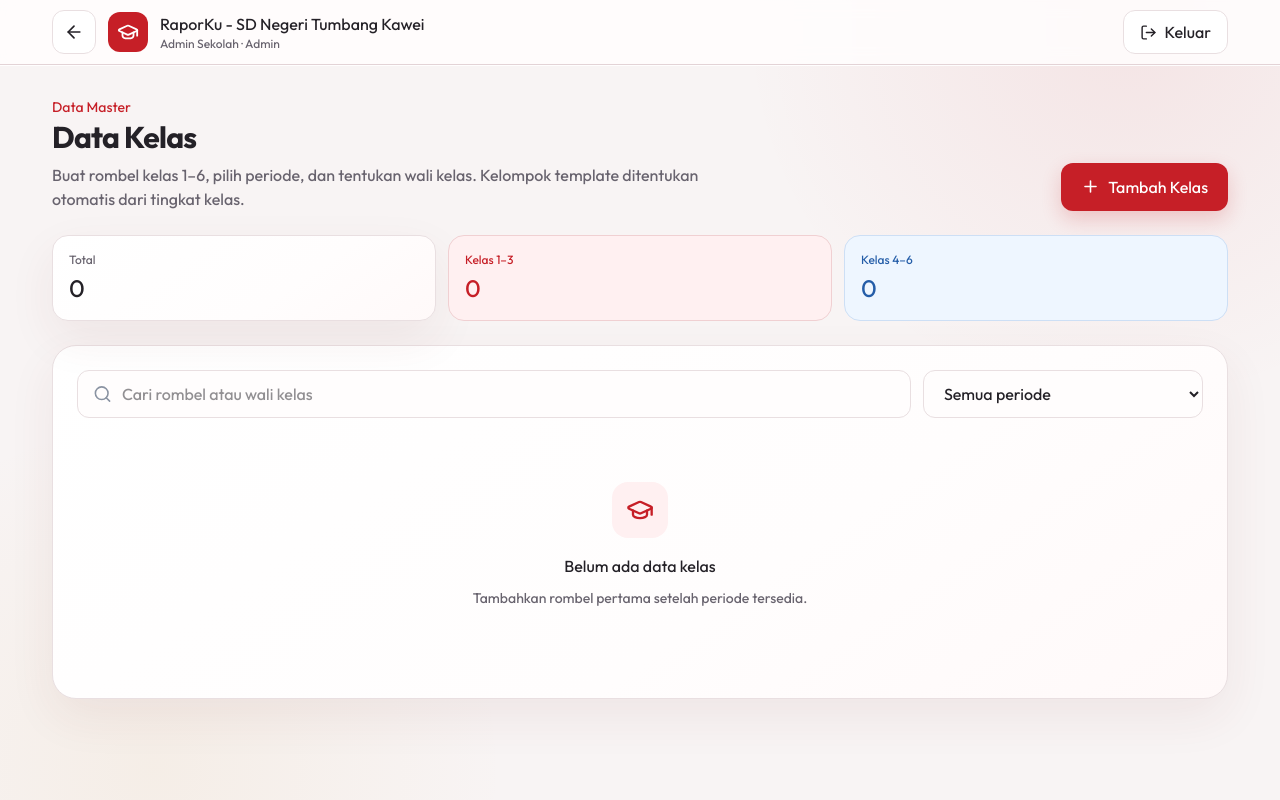
Test: ClassPage › menambahkan kelas dengan template yang ditentukan otomatis
This screenshot has width=1280, height=800.
Click the button "Tambah Kelas" at (1145, 187), box [1061,163,1228,211]
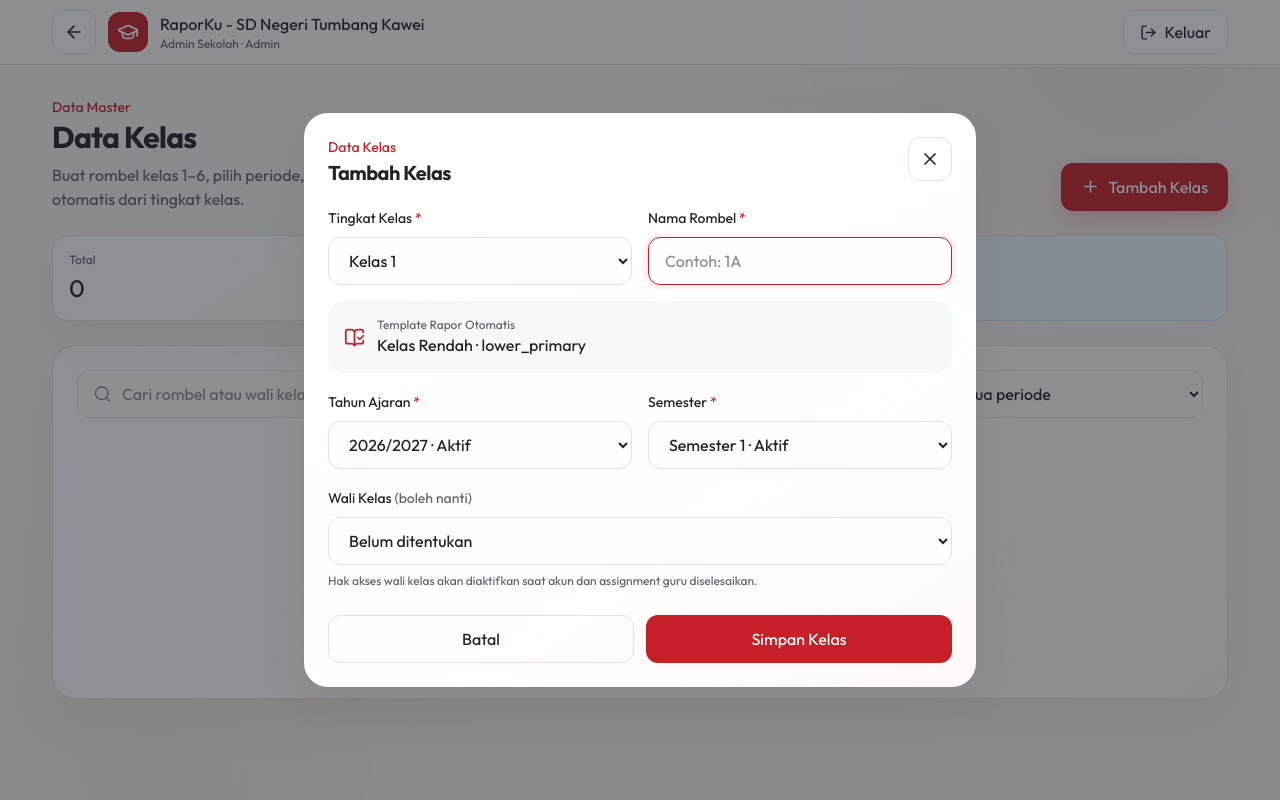
Select "Kelas 4" in the dropdown labelled "Tingkat Kelas *" at (480, 261), box [328,237,632,285]
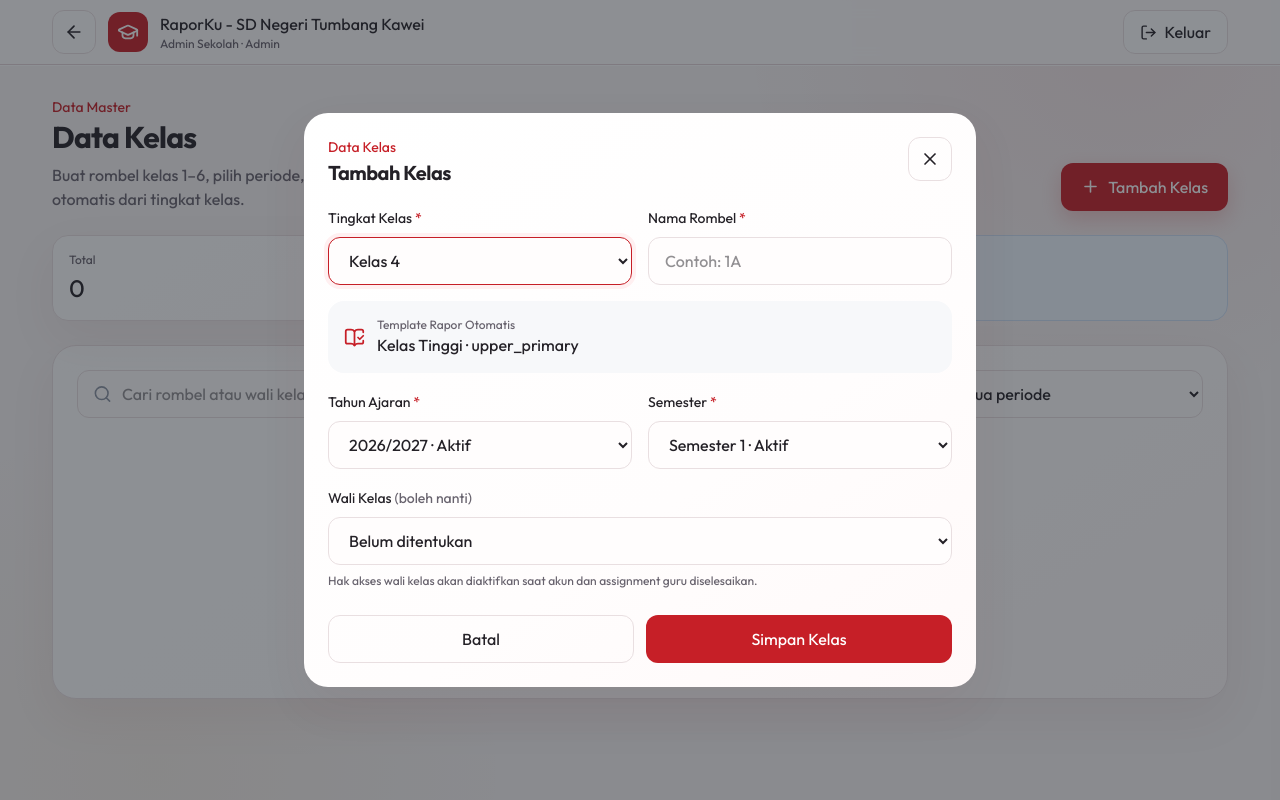
Type "4A" into the field labelled "Nama Rombel *" at (800, 261), box [648,237,952,285]
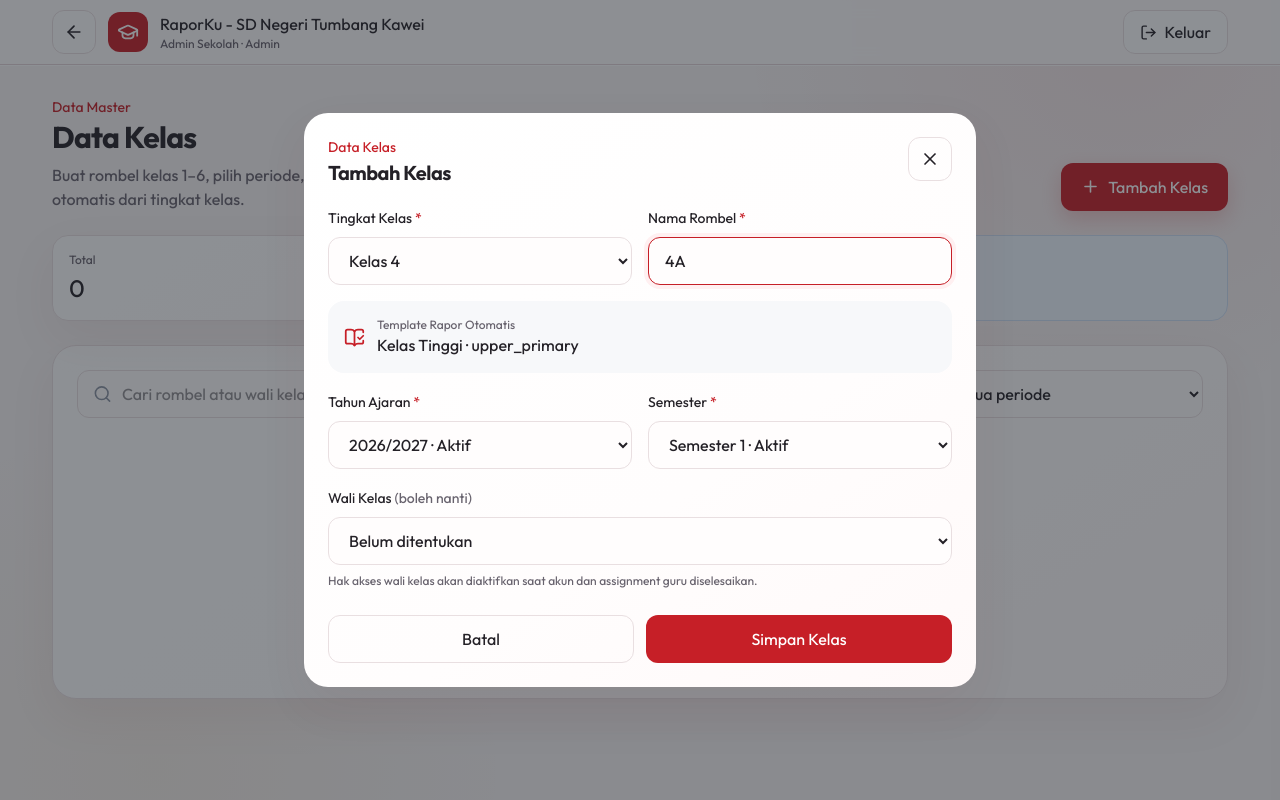
Select "Ibu Rina" in the dropdown labelled "Wali Kelas (boleh nanti)" at (640, 541), box [328,517,952,565]
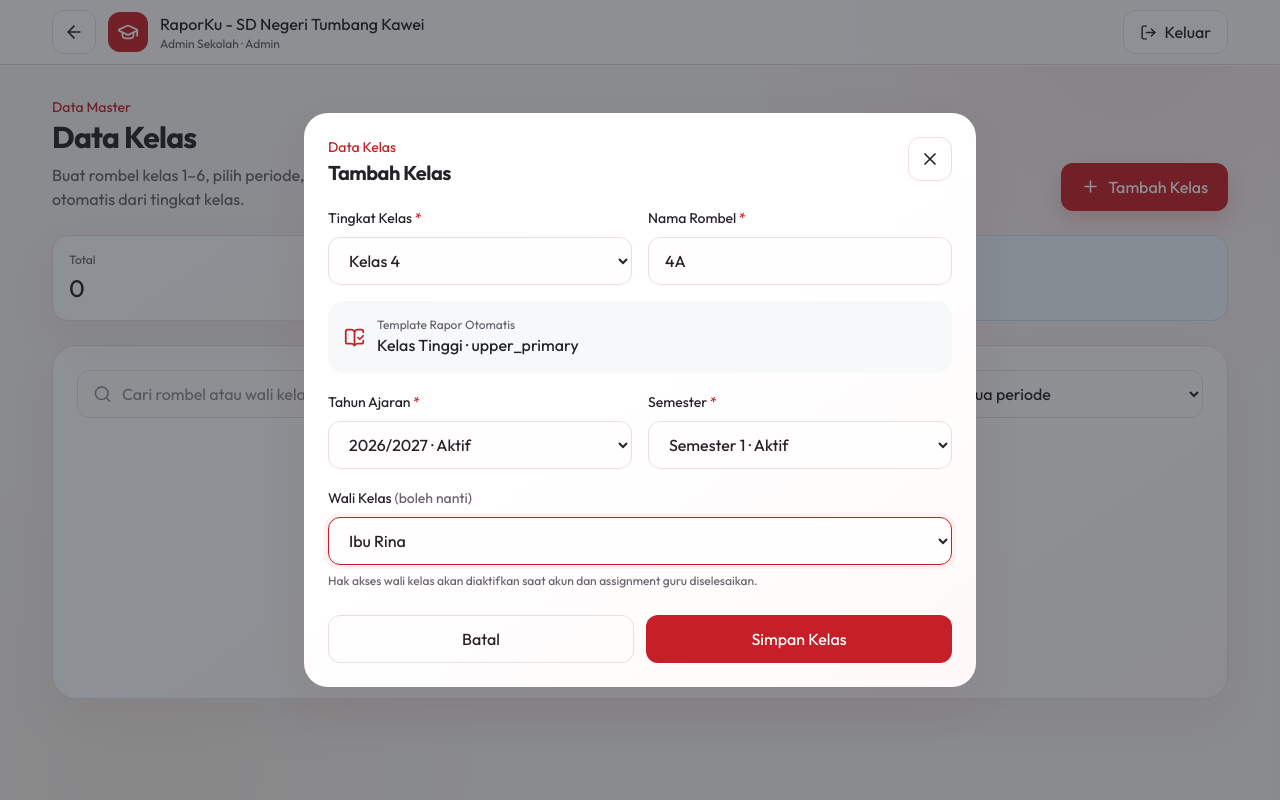
Now the text "Kelas Tinggi · upper_primary" is shown, box [377,333,579,357]
Click the button "Simpan Kelas" at (799, 639), box [646,615,952,663]
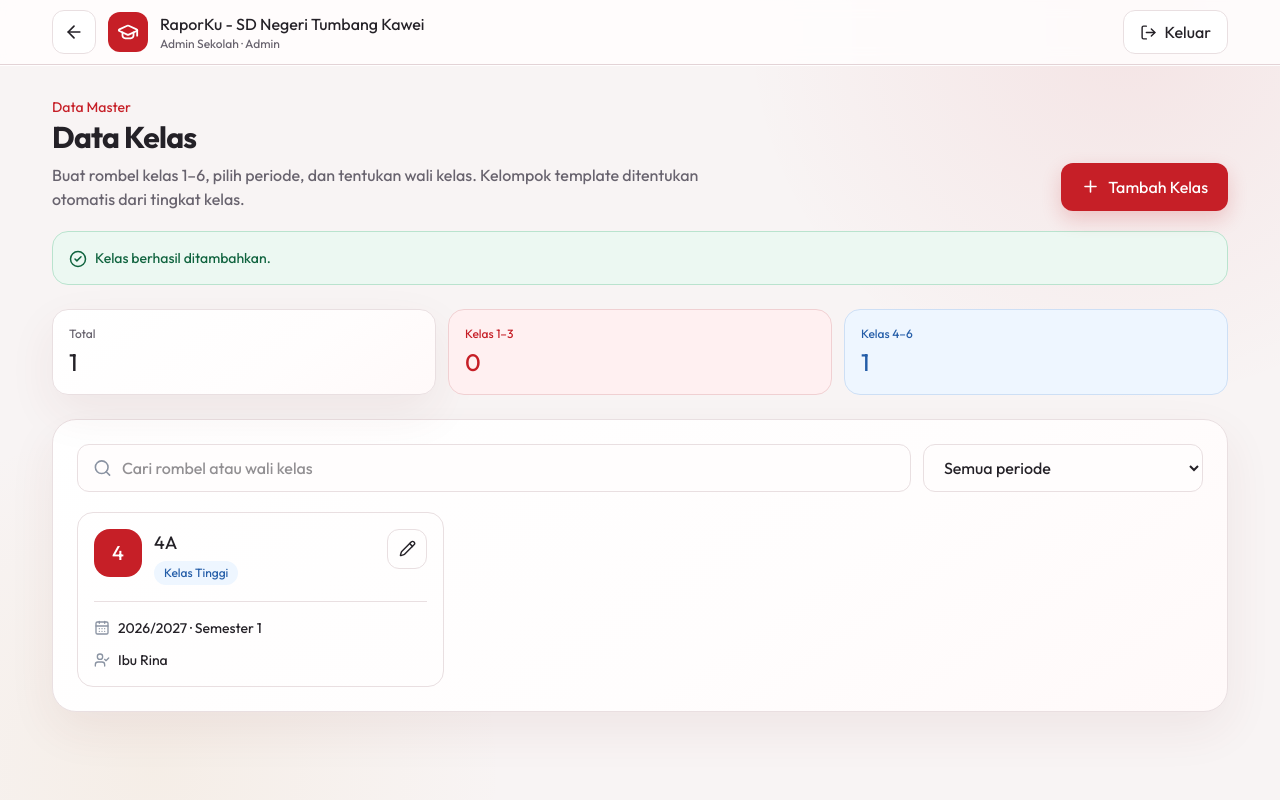
Now the text "Kelas berhasil ditambahkan." is shown, box [52,231,1228,285]
